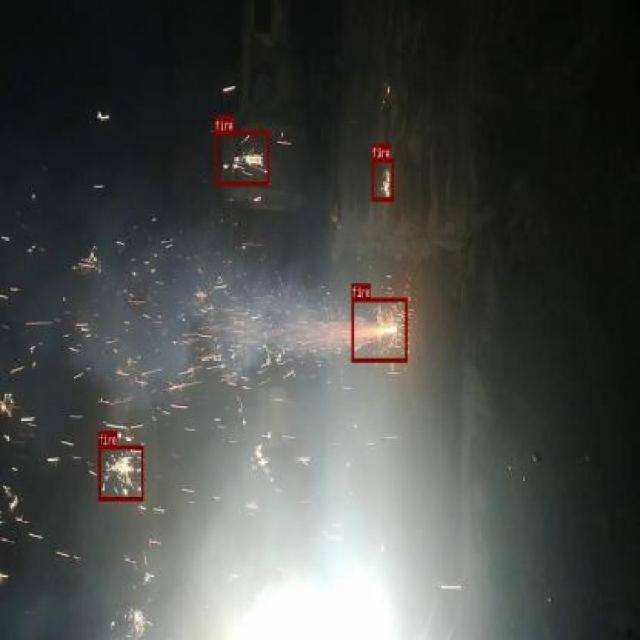Fire: (351, 296, 407, 362), (214, 130, 268, 184), (98, 444, 142, 500), (372, 157, 394, 200)
